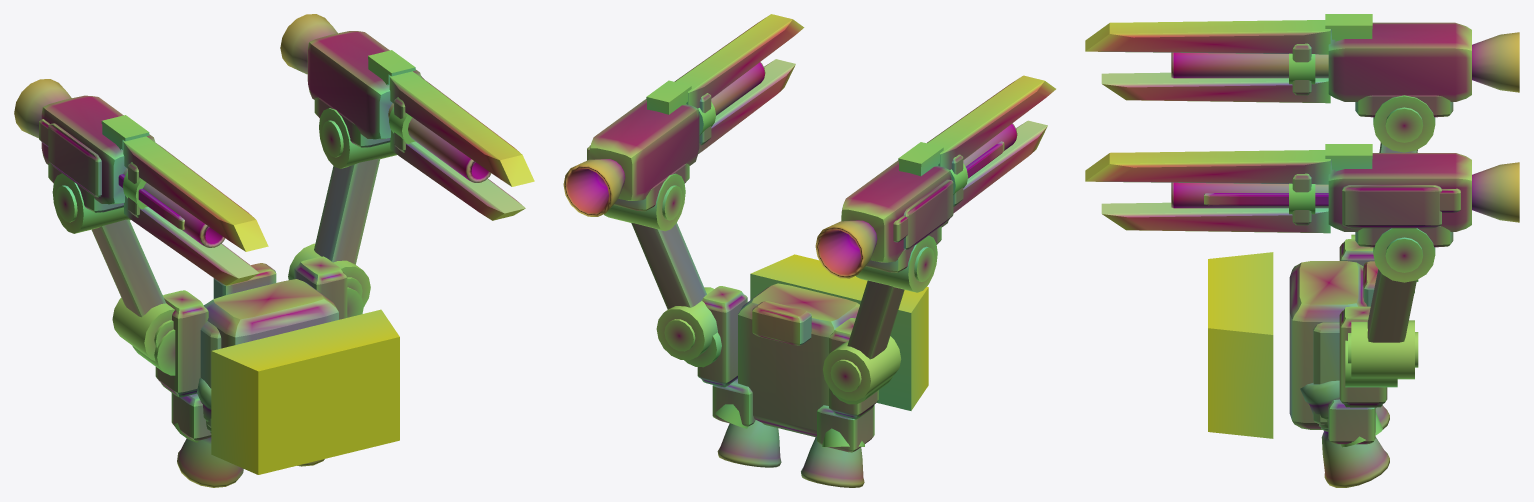
The model's file is llm_gen_dorsal_pack_102_10c81e.glb.
3 renders of one model, left to right at view 1: azimuth 30°, elevation 25°; view 2: azimuth 150°, elevation 25°; view 3: azimuth 270°, elevation 25°, orthographic. The views are drawn at different scales.
Visible parts, largest first — view 1: mounting_dovetail_plug, artillery_breech_6_wing_white_r, adapter_dorsal_spine_dark, artillery_upper_rail_12_wing_white_r, artillery_upper_rail_12_wing_white_l, artillery_pylon_2_adapter_dark_r, artillery_breech_6_wing_white_l, artillery_pylon_2_adapter_dark_l, artillery_lower_rail_13_adapter_dark_r, adapter_dorsal_outrigger_dark_l, artillery_lower_rail_13_adapter_dark_l, artillery_flank_armor_7_titanium_silver_l (+21 smaller); view 2: adapter_dorsal_spine_dark, mounting_dovetail_plug, artillery_breech_6_wing_white_r, artillery_breech_6_wing_white_l, artillery_upper_rail_12_wing_white_r, artillery_upper_rail_12_wing_white_l, artillery_pylon_2_adapter_dark_r, artillery_rear_venturi_10_vernier_bell_r, artillery_rear_venturi_10_vernier_bell_l, artillery_pylon_2_adapter_dark_l, adapter_dorsal_outrigger_dark_r, adapter_sub_art_drum_dark_0_adapter_dark_l (+23 smaller); view 3: mounting_dovetail_plug, artillery_breech_6_wing_white_l, artillery_upper_rail_12_wing_white_l, artillery_upper_rail_12_wing_white_r, adapter_dorsal_spine_dark, artillery_breech_6_wing_white_r, artillery_lower_rail_13_adapter_dark_r, artillery_lower_rail_13_adapter_dark_l, artillery_flank_armor_7_titanium_silver_r, artillery_barrel_11_barrel_metal_l, adapter_sub_art_drum_dark_0_adapter_dark_r, artillery_vernier_18_vernier_bell_vernier_r (+25 smaller).
Part boxes in pixels (x1,y1,x2,y2): mounting_dovetail_plug: [211, 309, 399, 474]; artillery_breech_6_wing_white_r: [307, 31, 421, 139]; adapter_dorsal_spine_dark: [204, 279, 338, 348]; artillery_upper_rail_12_wing_white_r: [389, 71, 534, 186]; artillery_upper_rail_12_wing_white_l: [123, 136, 268, 251]; artillery_pylon_2_adapter_dark_r: [314, 158, 380, 264]; artillery_breech_6_wing_white_l: [41, 95, 155, 204]; artillery_pylon_2_adapter_dark_l: [91, 219, 165, 317]; artillery_lower_rail_13_adapter_dark_r: [390, 130, 525, 220]; adapter_dorsal_outrigger_dark_l: [155, 290, 208, 397]; artillery_lower_rail_13_adapter_dark_l: [124, 195, 259, 285]; artillery_flank_armor_7_titanium_silver_l: [48, 123, 101, 197]; adapter_dorsal_spine_dark: [738, 283, 859, 437]; mounting_dovetail_plug: [750, 254, 928, 410]; artillery_breech_6_wing_white_r: [589, 99, 699, 200]; artillery_breech_6_wing_white_l: [841, 160, 951, 262]; artillery_upper_rail_12_wing_white_r: [674, 14, 804, 108]; artillery_upper_rail_12_wing_white_l: [927, 75, 1055, 169]; artillery_pylon_2_adapter_dark_r: [631, 223, 706, 309]; artillery_rear_venturi_10_vernier_bell_r: [563, 159, 625, 216]; artillery_rear_venturi_10_vernier_bell_l: [815, 220, 877, 278]; artillery_pylon_2_adapter_dark_l: [847, 280, 904, 359]; adapter_dorsal_outrigger_dark_r: [697, 286, 747, 387]; adapter_sub_art_drum_dark_0_adapter_dark_l: [823, 336, 901, 400]; mounting_dovetail_plug: [1208, 252, 1273, 438]; artillery_breech_6_wing_white_l: [1328, 22, 1471, 101]; artillery_upper_rail_12_wing_white_l: [1085, 20, 1330, 54]; artillery_upper_rail_12_wing_white_r: [1085, 150, 1330, 184]; adapter_dorsal_spine_dark: [1289, 261, 1367, 429]; artillery_breech_6_wing_white_r: [1328, 153, 1471, 231]; artillery_lower_rail_13_adapter_dark_r: [1101, 202, 1330, 233]; artillery_lower_rail_13_adapter_dark_l: [1101, 72, 1330, 103]; artillery_flank_armor_7_titanium_silver_r: [1342, 185, 1441, 228]; artillery_barrel_11_barrel_metal_l: [1171, 52, 1328, 78]; adapter_sub_art_drum_dark_0_adapter_dark_r: [1351, 320, 1414, 379]; artillery_vernier_18_vernier_bell_vernier_r: [1321, 427, 1389, 487].
Bounding box in the file's own units: 46.8 × 50.5 × 53.1.
